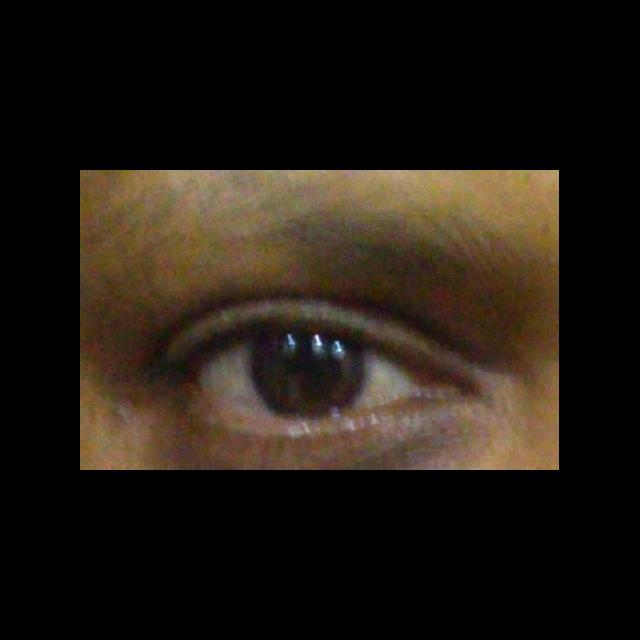eye: (198, 329, 415, 420)
iris: (251, 329, 366, 417)
